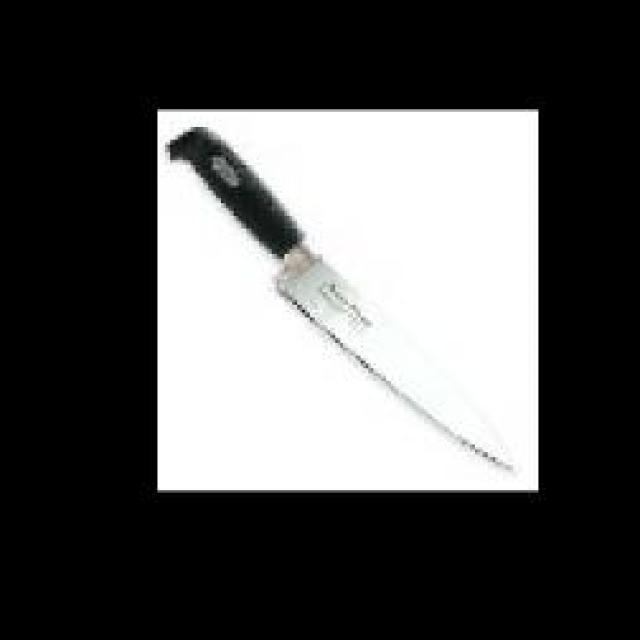knife: (165, 127, 518, 475)
